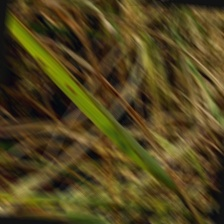Bacterial_Leaf_Blight: (33, 53, 48, 68), (63, 81, 78, 94), (133, 150, 146, 159)
